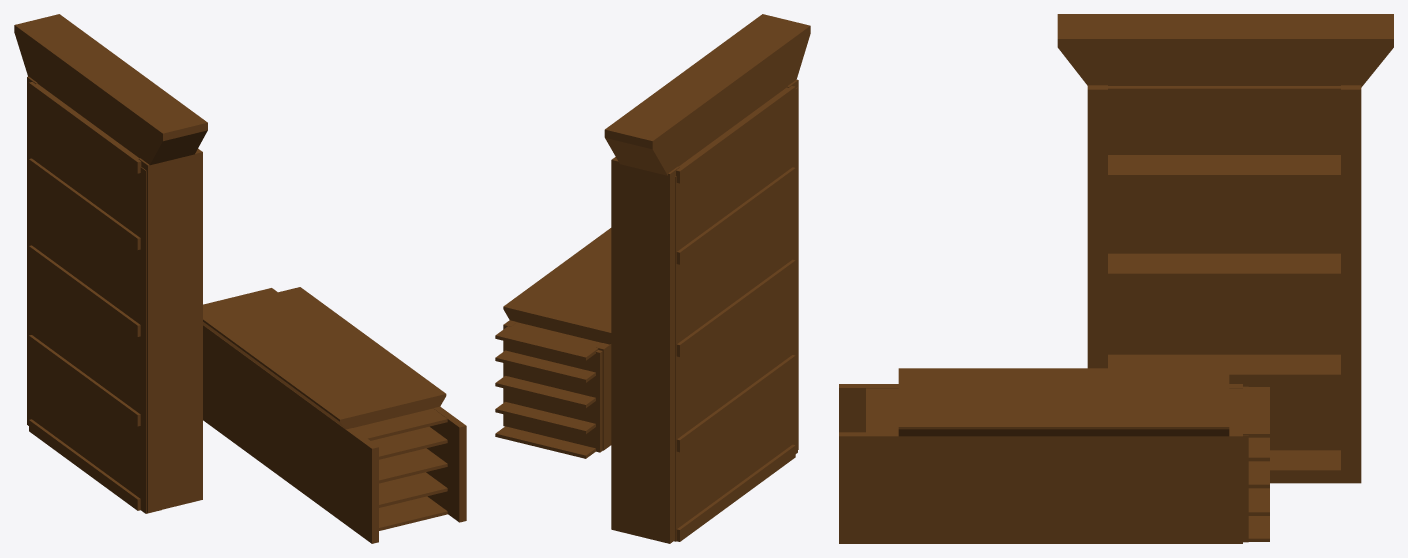
File: bookshelf.fbx
3 renders of one model, left to right at view 1: azimuth 30°, elevation 25°; view 2: azimuth 150°, elevation 25°; view 3: azimuth 270°, elevation 25°, orthographic. The views are drawn at different scales.
Parts seen in each view (by area): view 1: Cube.002, Cube.001; view 2: Cube.002, Cube.001; view 3: Cube.002, Cube.001.
Boxes of the visible parts, x1,y1,x2,y2 form: Cube.002: (14,14,207,513); Cube.001: (203,287,466,543); Cube.002: (604,14,810,543); Cube.001: (495,228,611,458); Cube.002: (1057,14,1393,483); Cube.001: (839,368,1269,543).
Size of the model in its own units: 488 by 832 by 946.
